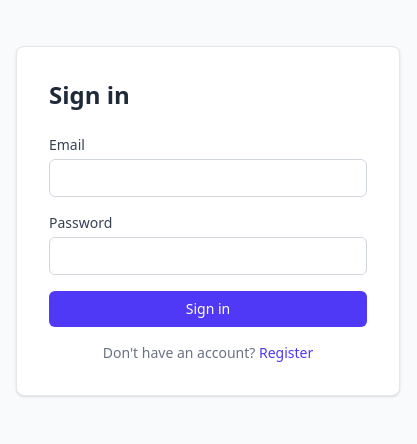
Test case: Login flow › shows an error message when credentials are wrong
In the field named "Email": [208, 178] box [49,159,367,197], type "user@example.com"
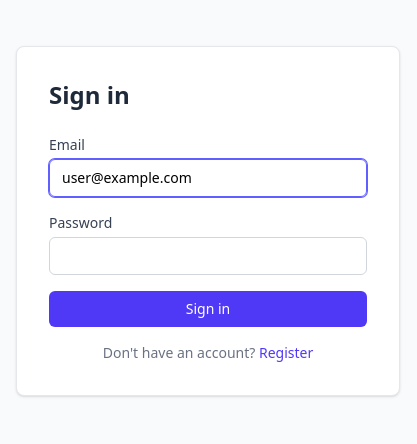
In the password field named "Password": [208, 256] box [49,237,367,275], type "wrongpassword"
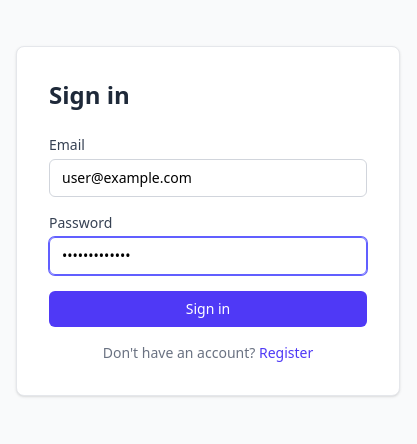
Click the submit button: [208, 309] box [49,291,367,327]
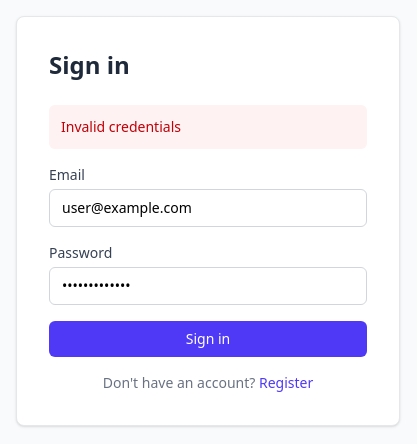
expect the message "Invalid credentials" is shown: met, box [49,105,367,149]
